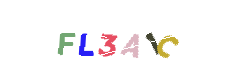1: (88, 0, 168, 80)
3: (74, 0, 154, 80)
A: (75, 0, 155, 80)
C: (112, 0, 192, 80)
F: (44, 0, 124, 80)
L: (68, 0, 148, 80)
